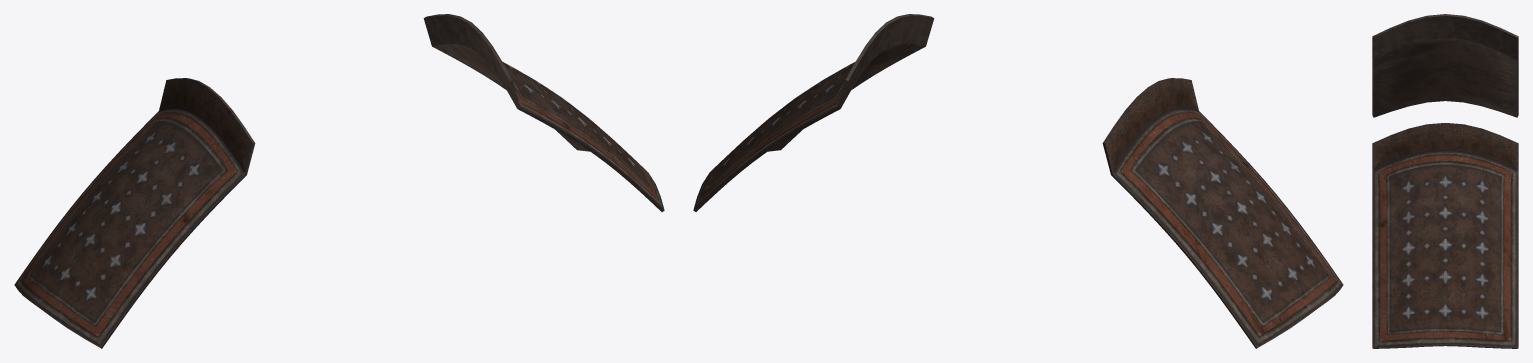
File: sk_dwarf_iron_pauldron_med_b.fbx
3 views of the same model, side by side, from view 1: azimuth 30°, elevation 25°; view 2: azimuth 150°, elevation 25°; view 3: azimuth 270°, elevation 25° (orthographic). The views are drawn at different scales.
Visible parts, largest first — view 1: sk_dwarf_iron_pauldron_med_b; view 2: sk_dwarf_iron_pauldron_med_b; view 3: sk_dwarf_iron_pauldron_med_b.
Part boxes in pixels (x1=…): sk_dwarf_iron_pauldron_med_b: x1=14, y1=14, x2=664, y2=348; sk_dwarf_iron_pauldron_med_b: x1=693, y1=14, x2=1343, y2=348; sk_dwarf_iron_pauldron_med_b: x1=1372, y1=14, x2=1518, y2=348.
Bounding box in the file's own units: 0.7862 × 0.1969 × 0.2447.
1 material, 1 textured.
